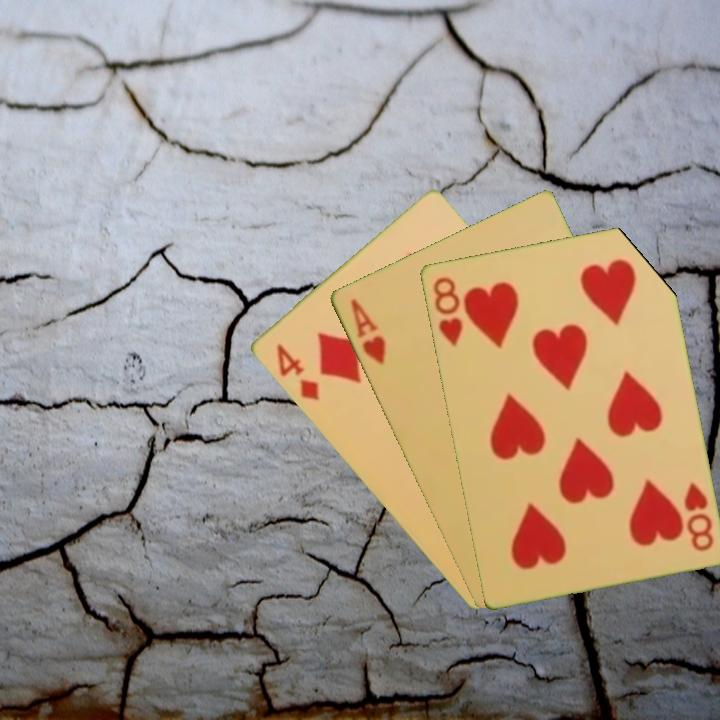4d: (272, 340, 322, 404)
8h: (429, 273, 466, 349), (680, 479, 716, 554)
Ah: (346, 295, 388, 368)
